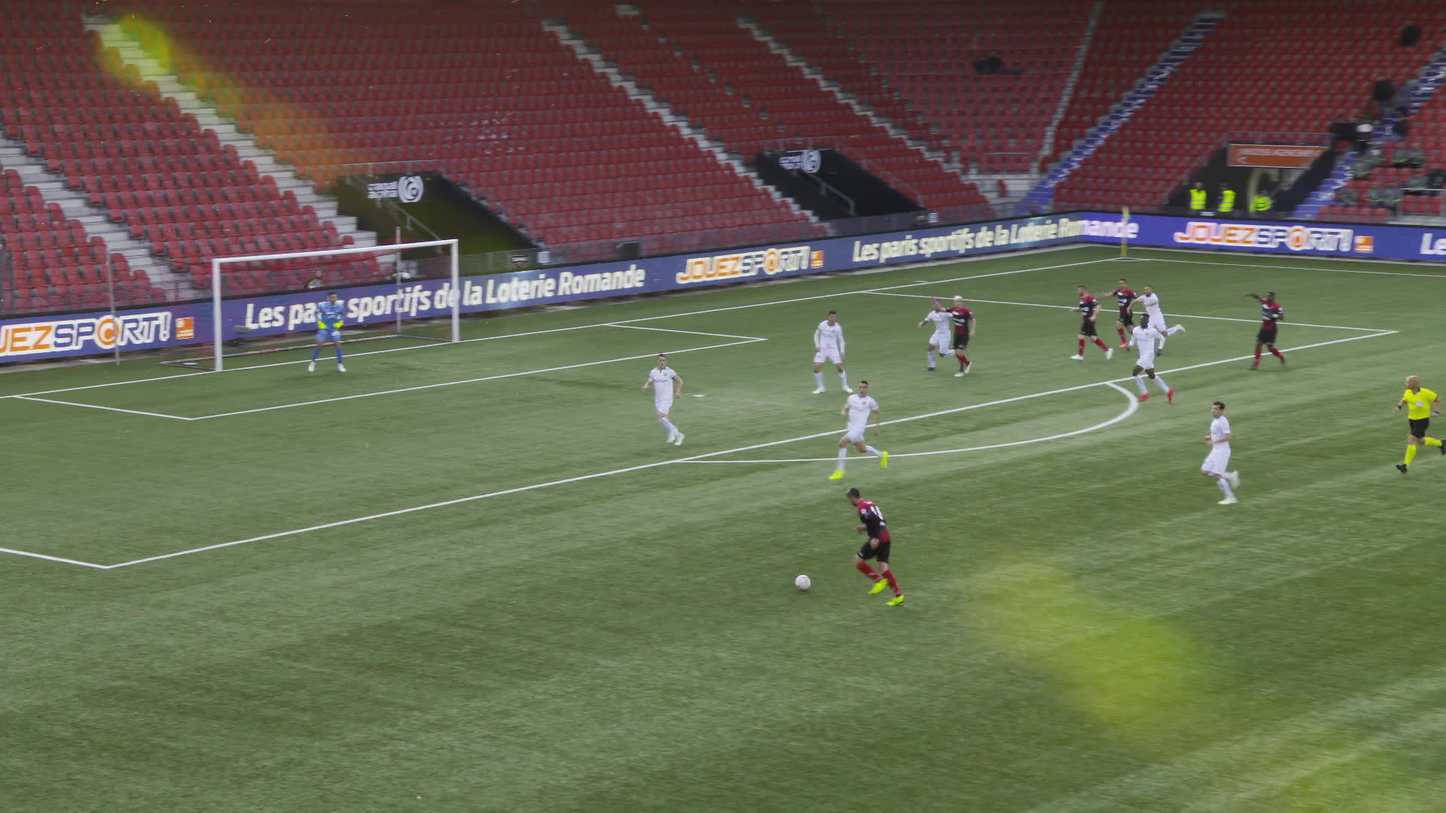ball: (797, 574, 812, 588)
player: (848, 487, 904, 604), (1200, 401, 1250, 504), (840, 378, 886, 478), (1124, 314, 1170, 404), (641, 352, 685, 446), (1126, 283, 1185, 349), (300, 294, 345, 373), (805, 311, 847, 393), (1069, 286, 1109, 360), (941, 294, 975, 375), (917, 297, 953, 370), (1245, 287, 1277, 369), (1103, 278, 1133, 352)
referee: (1393, 375, 1441, 472)
